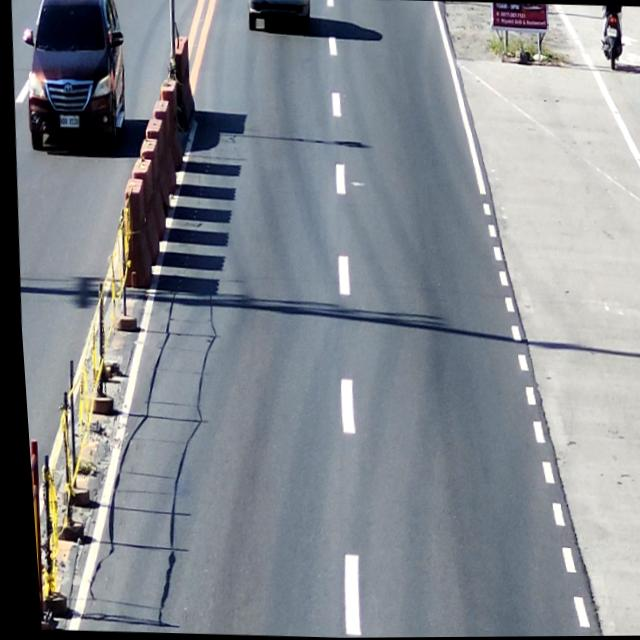Car: (18, 0, 131, 146), (245, 0, 312, 40)
License-Plate: (55, 112, 78, 132)
Motorcycle: (597, 6, 627, 70)
